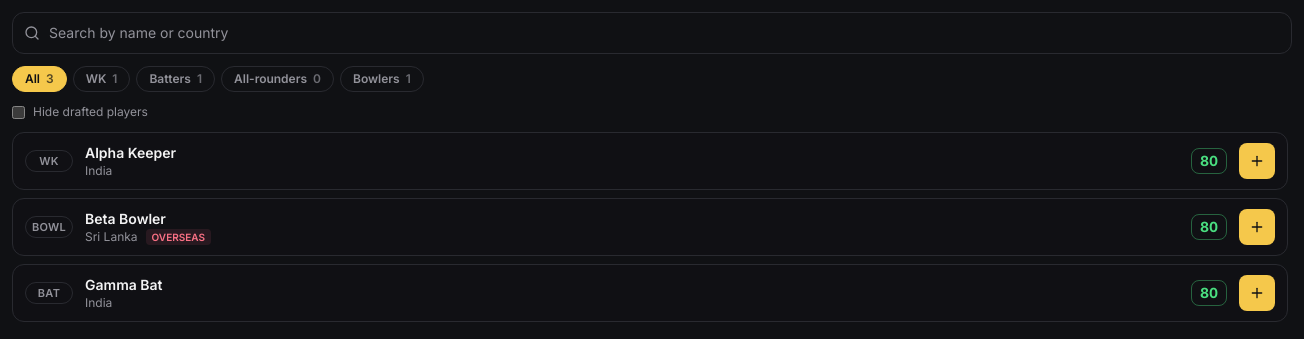
Scenario: PlayerPool states › filters by role
Click the button "Bowlers1" at (382,79), box [340, 66, 424, 92]
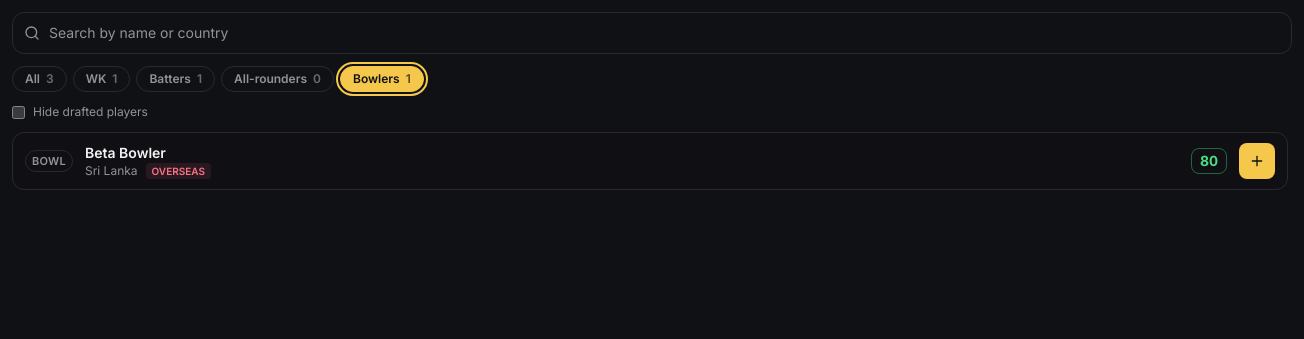
Check: the text "Beta Bowler" is shown, box [85, 144, 166, 161]
Check: the text "Alpha Keeper" is gone
